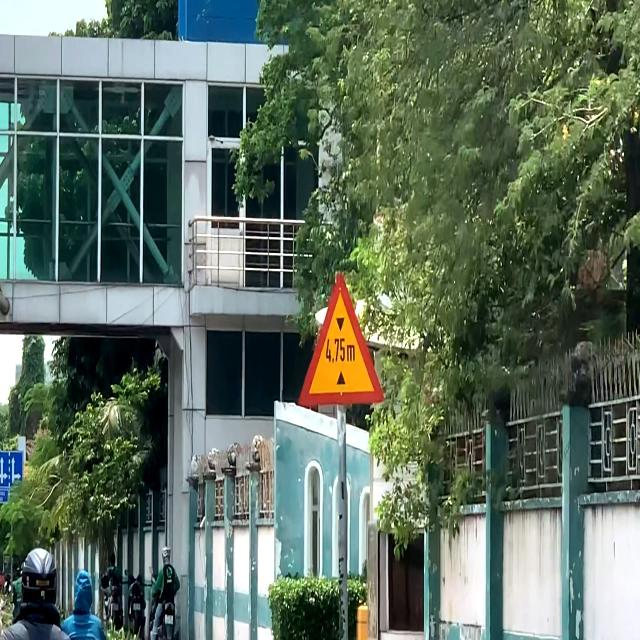Chieu cao an toan: (294, 266, 388, 411)
